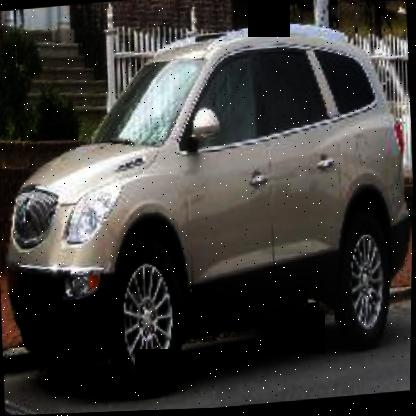not_emergency: (0, 12, 415, 407)
